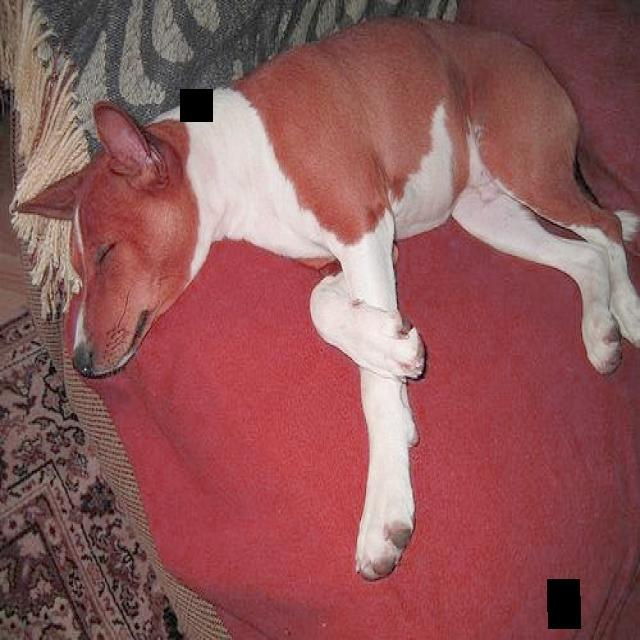adult_dog: (8, 20, 640, 578)
